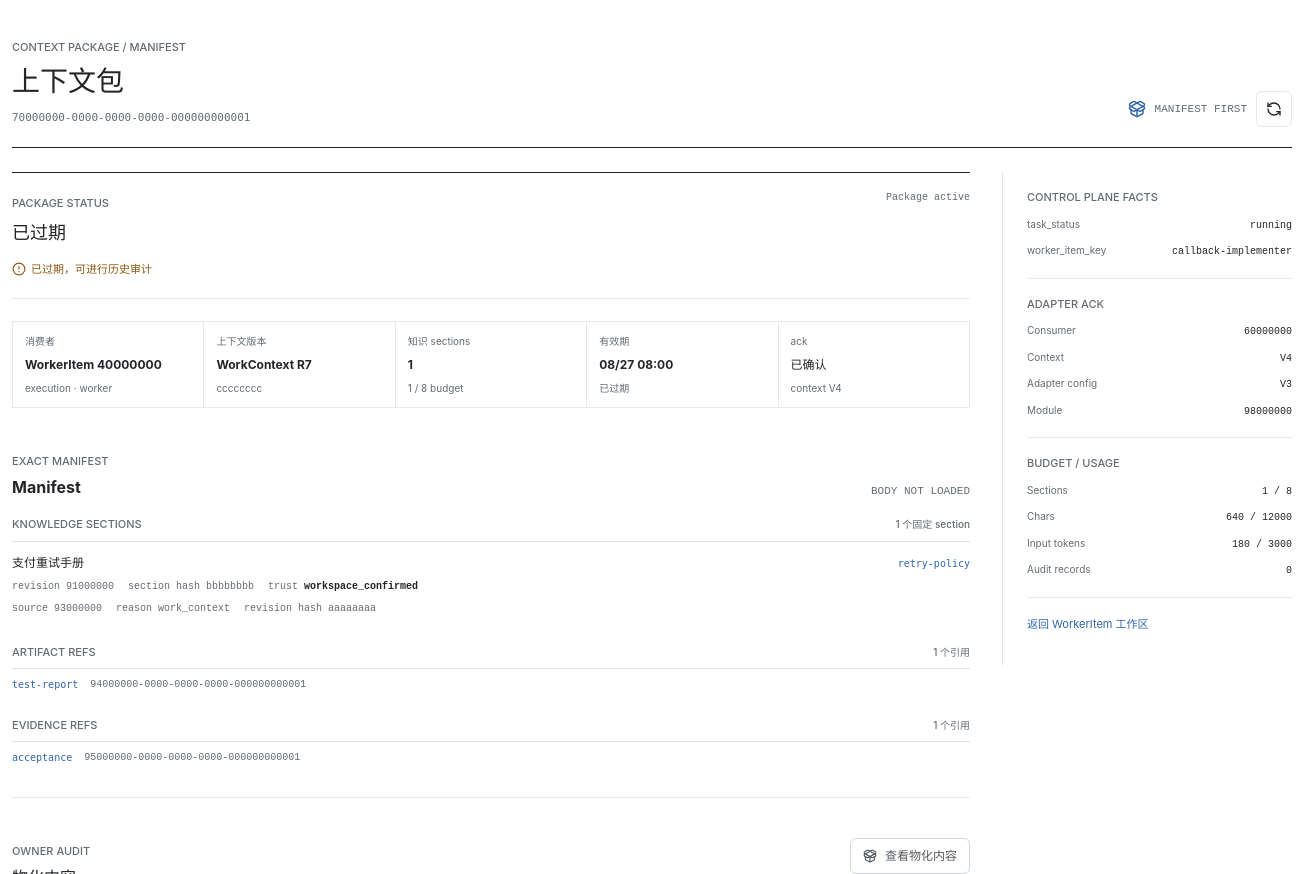
Scenario: ContextPackagePage › loads the body only after an explicit owner audit and keeps the manifest exact
Expected: the heading "上下文包" is shown, [12,64,124,98]
Expected: the text "支付重试手册" is shown, [12,553,84,572]
What coordinates should you click on to do the following:
click the button "查看物化内容"
I would click on:
 (910, 856)
Its box is [850,838,970,873].
(page scrolled)
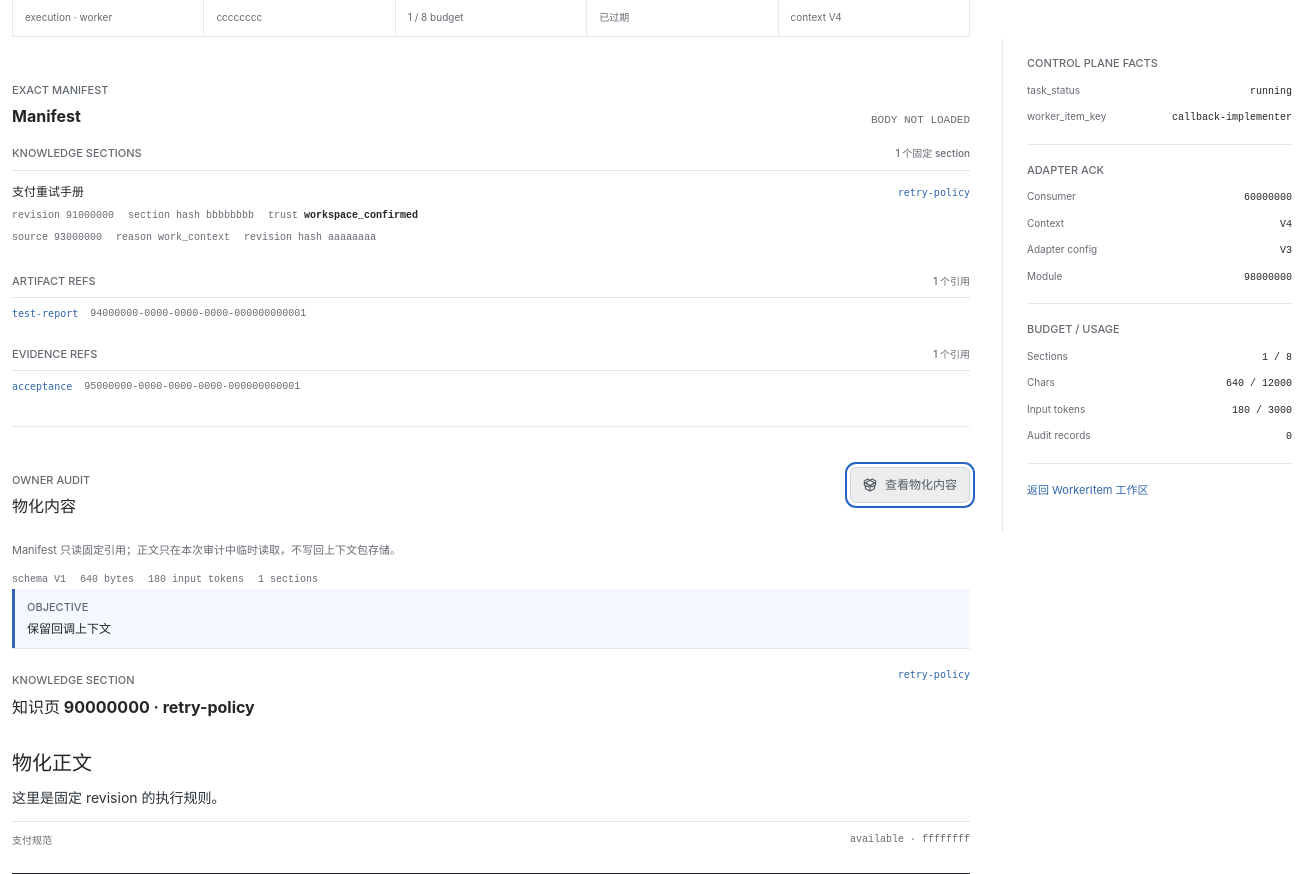
Expected: the heading "物化正文" is shown, [12,751,92,775]
Expected: the text "支付规范" is shown, [12,832,52,849]
Expected: the text "180 input tokens" is shown, [148,572,244,589]
